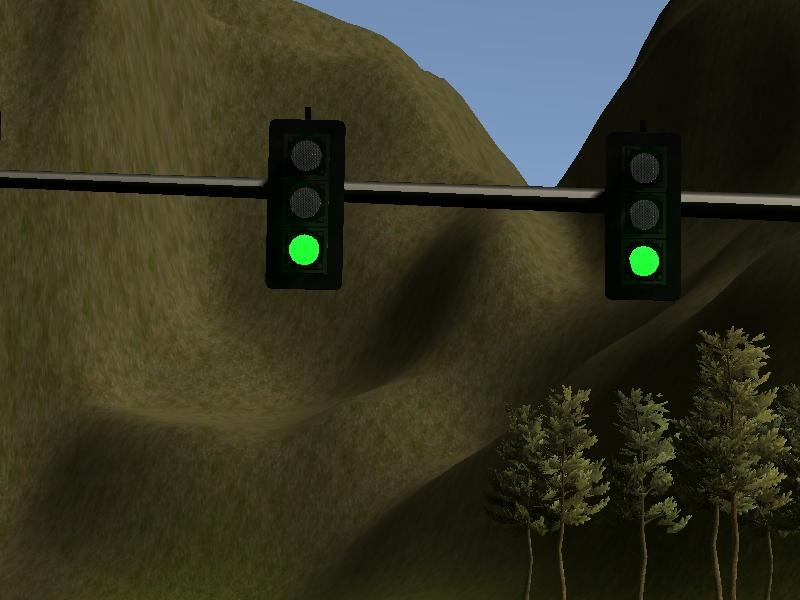green: (267, 120, 347, 291), (606, 131, 683, 300)
